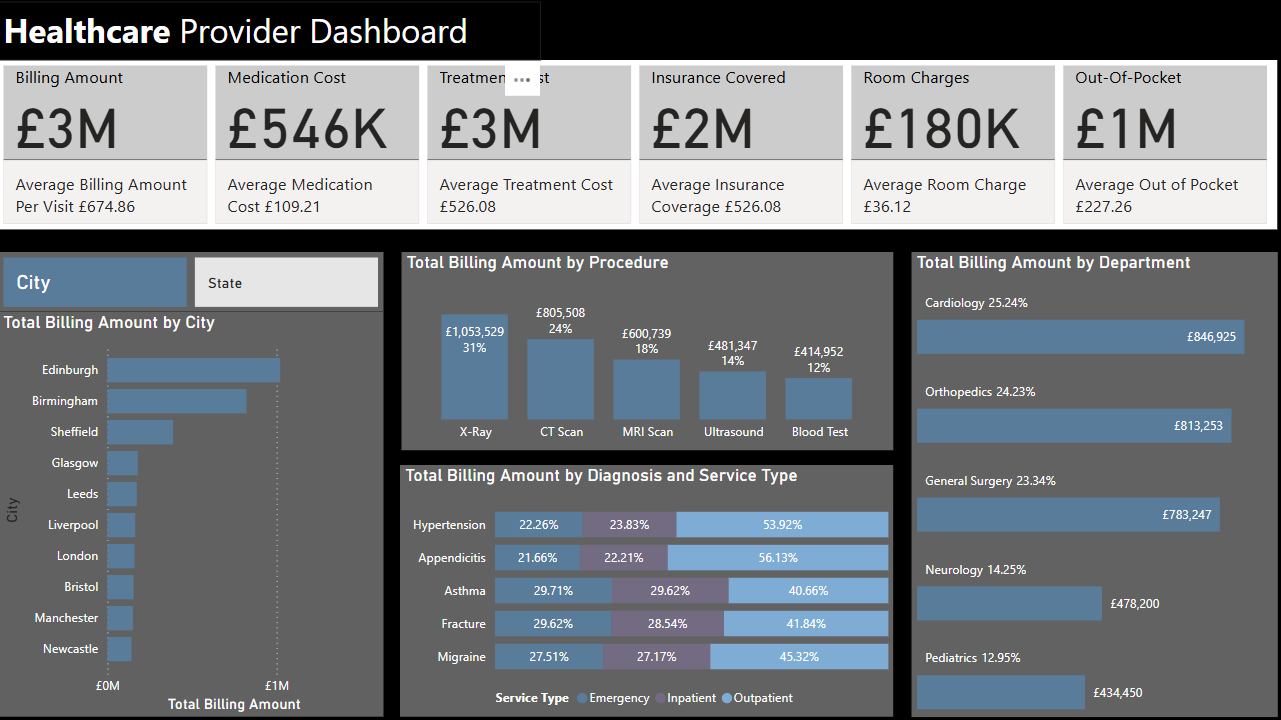

Layout of this report page (visuals, bound fields, positions):
{"tool":"powerbi","page":{"name":"Trend","canvas":[1280,720],"ordinal":0},"visuals":[{"type":"cardVisual","fields":{"Data":["Dax Calculation (2).Total Billing Amount","Dax Calculation (2).TotaL Medication Cost","Dax Calculation (2).Treatment Cost","Dax Calculation (2).Total Insurance Covered","Dax Calculation (2).Total Room Charges","Dax Calculation (2).Out-Of-Pocket"]},"box":[11.7,78.7,1243.6,164.7],"z":0},{"type":"clusteredBarChart","fields":{"Category":["cities.City","cities.State"],"Y":["Dax Calculation (2).Total Billing Amount"]},"box":[11.7,323.6,374.7,393.6],"z":1000},{"type":"advancedSlicerVisual","fields":{"Values":["Patients location switch 1.Patients location switch 1"]},"box":[11.7,265.3,374.7,58.3],"z":2000},{"type":"columnChart","fields":{"Category":["procedures.Procedure"],"Y":["Dax Calculation (2).Total Billing Amount"]},"box":[403.8,265.3,478.2,192.4],"z":3000},{"type":"hundredPercentStackedBarChart","fields":{"Y":["Dax Calculation (2).Total Billing Amount"],"Category":["diagnoses.Diagnosis"],"Series":["visits.Service Type"]},"box":[402.4,472.3,479.6,244.9],"z":4000},{"type":"clusteredBarChart","title":" Total Billing Amount by Department","fields":{"Category":["departments.Department"],"Y":["Dax Calculation (2).Blank Measures","Dax Calculation (2).Total Billing Amount"]},"box":[899.5,265.3,355.7,451.9],"z":5000},{"type":"textbox","box":[11.7,21.9,527.7,56.9],"z":6000}]}

Visuals, with their boxes in screenshot pixels (x1, y1, x2, y2), scaled from the page's 1280x720 canvas onto the 1281x720 screenshot:
cardVisual - Dax Calculation (2).Total Billing Amount x Dax Calculation (2).TotaL Medication Cost: bbox=[12, 79, 1256, 243]
clusteredBarChart - cities.City x cities.State: bbox=[12, 324, 387, 717]
advancedSlicerVisual - Patients location switch 1.Patients location switch 1: bbox=[12, 265, 387, 324]
columnChart - procedures.Procedure x Dax Calculation (2).Total Billing Amount: bbox=[404, 265, 883, 458]
hundredPercentStackedBarChart - Dax Calculation (2).Total Billing Amount x diagnoses.Diagnosis: bbox=[403, 472, 883, 717]
" Total Billing Amount by Department" clusteredBarChart: bbox=[900, 265, 1256, 717]
textbox: bbox=[12, 22, 540, 79]
